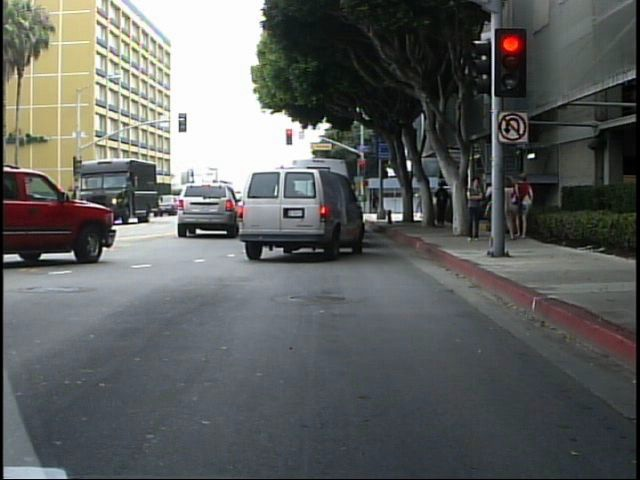person: (517, 171, 539, 244), (502, 170, 522, 244), (467, 175, 487, 244), (433, 175, 453, 230), (412, 185, 424, 217)
